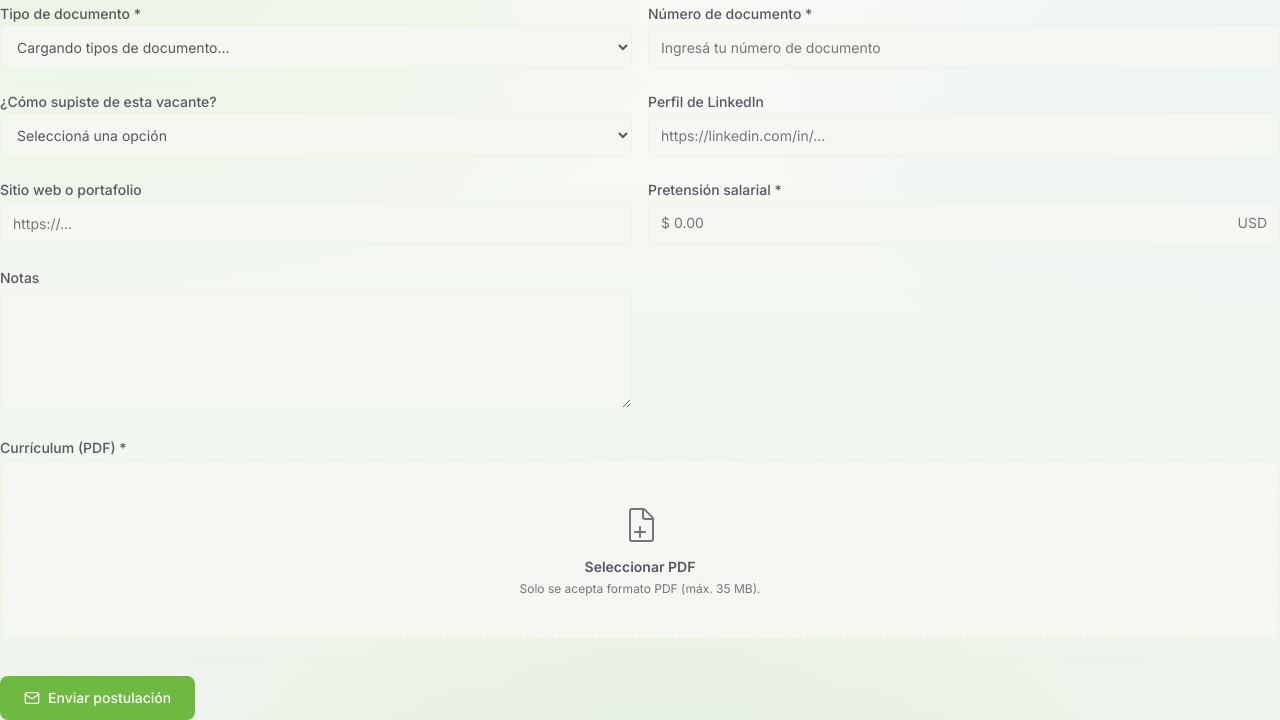
Test: PublicVacancyApplicationForm › exige teléfono, tipo de documento, número de documento y pretensión salarial al enviar
(page scrolled)
What coordinates should you click on to do the following:
click the button "Enviar postulación"
I would click on:
 (98, 698)
Its box is [0,676,195,719].
(page scrolled)
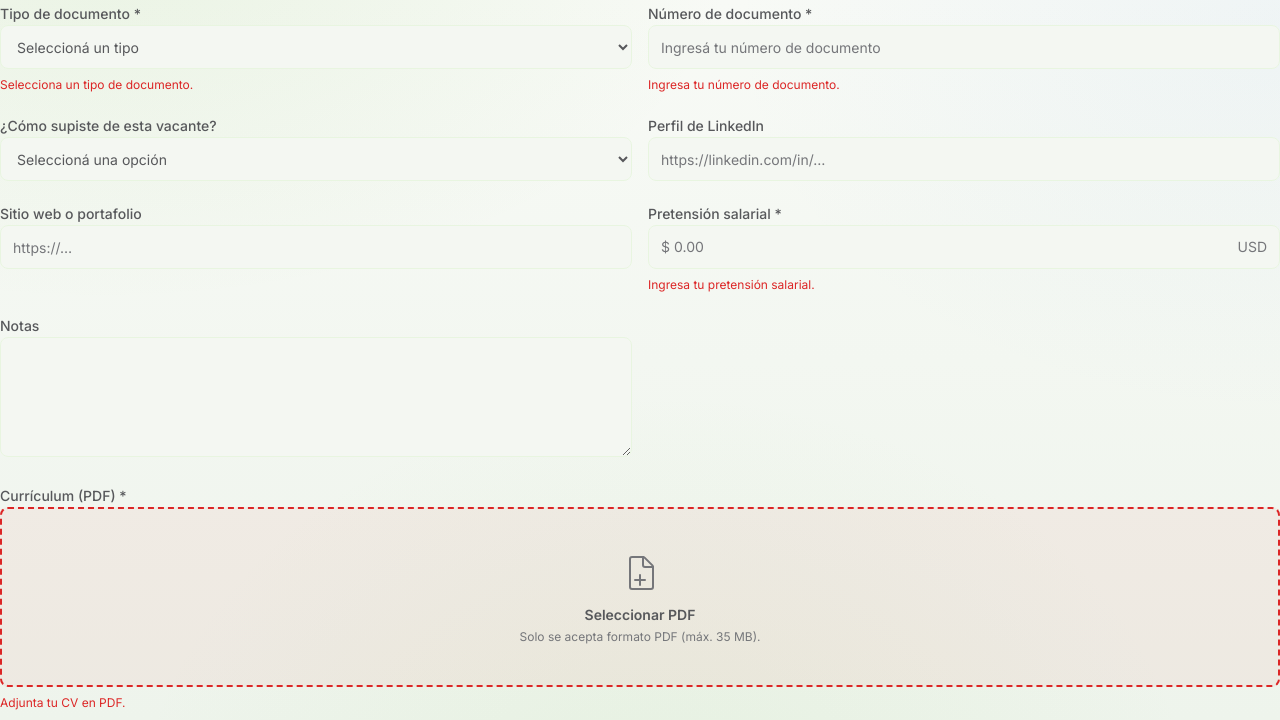
Expected: the text "Selecciona un tipo de documento." is shown, [0,77,193,92]
Expected: the text "Ingresa tu número de documento." is shown, [648,77,840,92]
Expected: the text "Ingresa tu pretensión salarial." is shown, [648,277,815,292]
